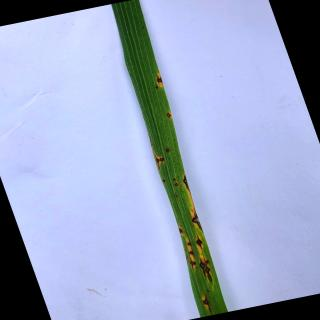Blast: (190, 207, 205, 234), (202, 294, 213, 314), (198, 258, 208, 278), (204, 266, 213, 285), (182, 173, 190, 191), (154, 153, 162, 170), (196, 234, 204, 250), (155, 73, 164, 87), (190, 258, 196, 270), (178, 226, 185, 235), (186, 239, 192, 248), (166, 112, 172, 118), (164, 147, 170, 153), (174, 182, 179, 188), (160, 156, 164, 162), (190, 250, 194, 256), (162, 179, 166, 183), (206, 260, 210, 264)
